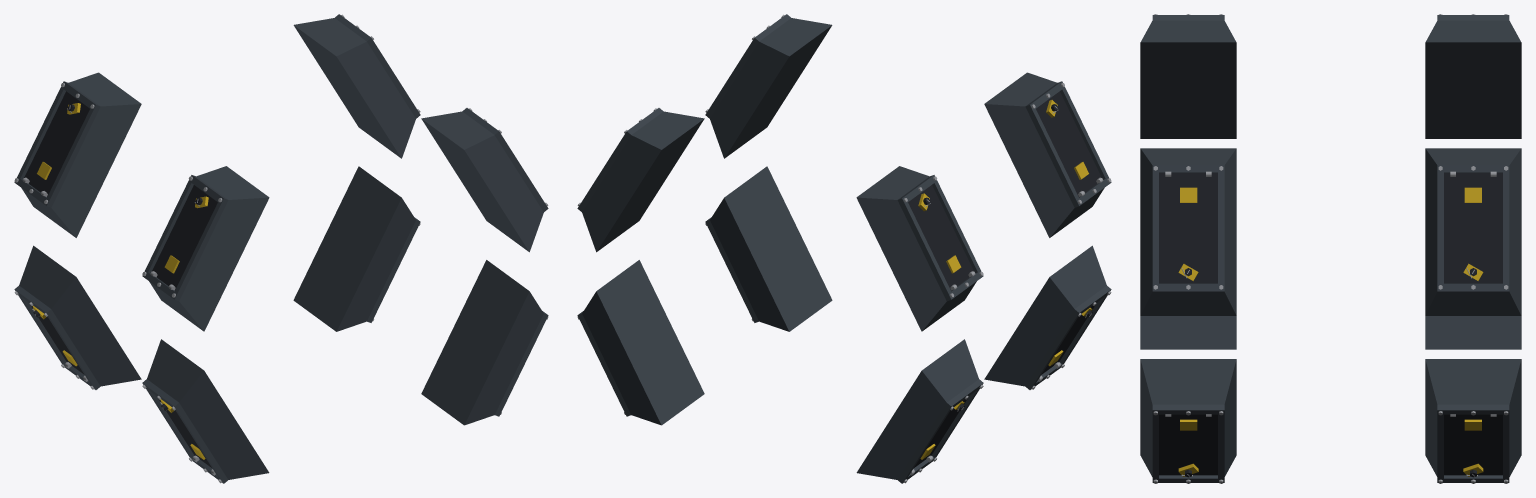
File: b12_dampers.obj
The picture shows the model from 3 angles, left to right: view 1: azimuth 30°, elevation 25°; view 2: azimuth 150°, elevation 25°; view 3: azimuth 270°, elevation 25°; orthographic projection. The views are drawn at different scales.
Visible parts, largest first — view 1: b12_dampers; view 2: b12_dampers; view 3: b12_dampers.
Part boxes in pixels (<box>): b12_dampers: <box>14,14,548,483</box>; b12_dampers: <box>577,14,1111,483</box>; b12_dampers: <box>1140,14,1521,483</box>.
Size of the model in its own units: 2.82 by 2.05 by 2.22.
